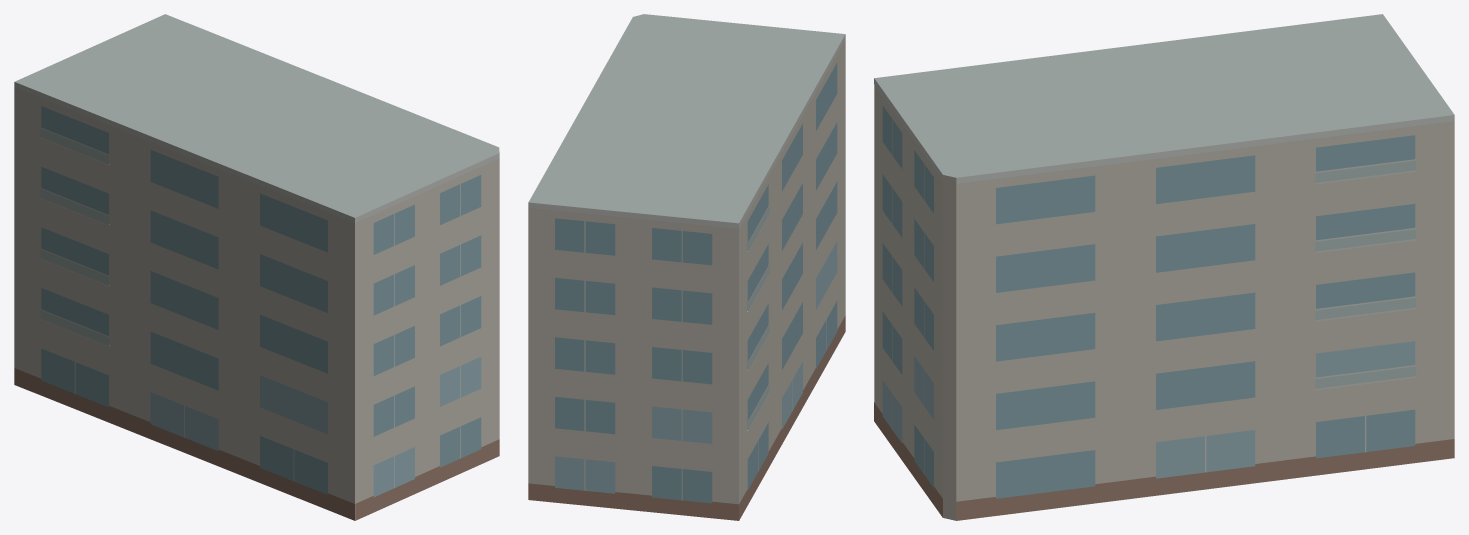
The model's file is survey-upis-32620940.glb.
3 views of the same model, side by side, from view 1: azimuth 30°, elevation 25°; view 2: azimuth 150°, elevation 25°; view 3: azimuth 270°, elevation 25° (orthographic). The views are drawn at different scales.
Parts seen in each view (by area): view 1: survey-upis-32620940.tmp; view 2: survey-upis-32620940.tmp; view 3: survey-upis-32620940.tmp.
Boxes of the visible parts, box(x1,y1,x2,y2) form: survey-upis-32620940.tmp: box(14, 14, 499, 520); survey-upis-32620940.tmp: box(528, 14, 845, 520); survey-upis-32620940.tmp: box(874, 14, 1454, 520).
Size of the model in its own units: 14.14 by 13.8 by 21.17.
